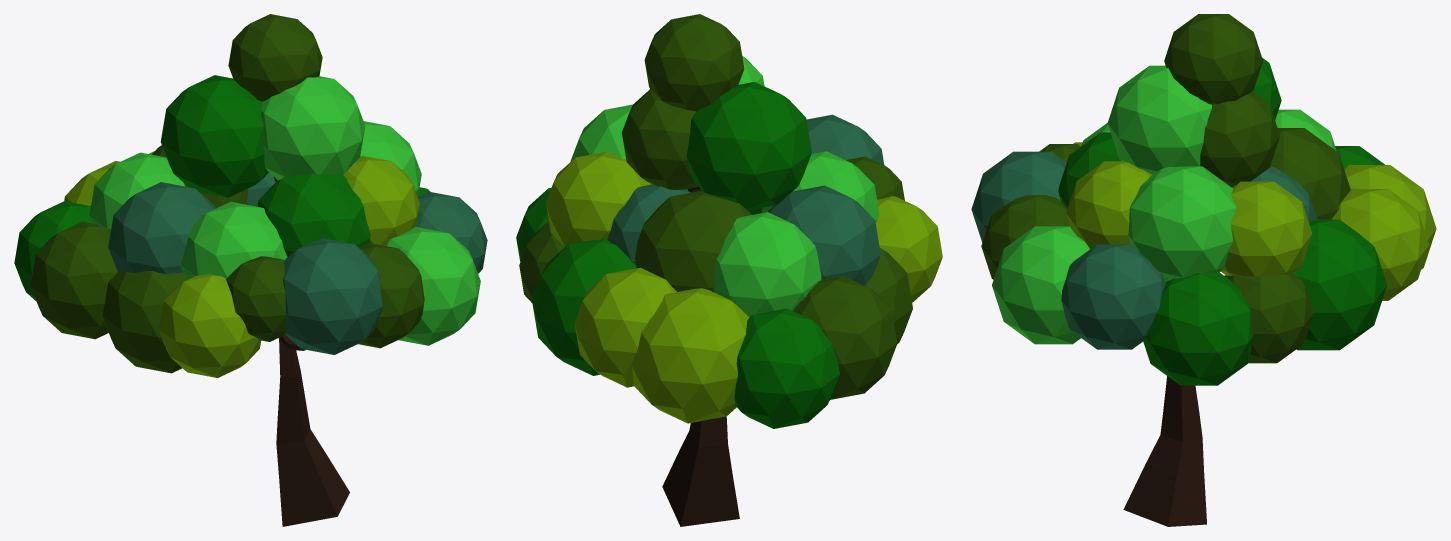
File: MapleTree.fbx
3 views of the same model, side by side, from view 1: azimuth 30°, elevation 25°; view 2: azimuth 150°, elevation 25°; view 3: azimuth 270°, elevation 25° (orthographic). The views are drawn at different scales.
Parts seen in each view (by area): view 1: Icosphere.025, Icosphere.013, Icosphere.026, Cube, Icosphere.005, Icosphere.009, Icosphere.017, Icosphere.003, Icosphere.019, Icosphere.023, Icosphere.008, Icosphere.018 (+8 smaller); view 2: Icosphere.025, Icosphere.010, Icosphere, Icosphere.016, Icosphere.015, Icosphere.005, Icosphere.023, Icosphere.011, Icosphere.017, Icosphere.001, Icosphere.022, Cube (+10 smaller); view 3: Icosphere.021, Icosphere.006, Icosphere.001, Icosphere.007, Icosphere.026, Icosphere.003, Cube, Icosphere.022, Icosphere.023, Icosphere.011, Icosphere.024, Icosphere.002 (+10 smaller).
Boxes of the visible parts, x1=… form: Icosphere.025: x1=160, y1=75, x2=268, y2=197; Icosphere.013: x1=283, y1=238, x2=382, y2=354; Icosphere.026: x1=261, y1=76, x2=365, y2=180; Cube: x1=274, y1=177, x2=349, y2=526; Icosphere.005: x1=30, y1=221, x2=117, y2=339; Icosphere.009: x1=159, y1=274, x2=260, y2=377; Icosphere.017: x1=108, y1=182, x2=215, y2=273; Icosphere.003: x1=385, y1=227, x2=480, y2=345; Icosphere.019: x1=257, y1=173, x2=370, y2=256; Icosphere.023: x1=228, y1=14, x2=322, y2=101; Icosphere.008: x1=102, y1=271, x2=186, y2=373; Icosphere.018: x1=181, y1=201, x2=287, y2=280; Icosphere.025: x1=686, y1=82, x2=811, y2=210; Icosphere.010: x1=631, y1=288, x2=749, y2=423; Icosphere: x1=734, y1=308, x2=839, y2=428; Icosphere.016: x1=713, y1=212, x2=821, y2=317; Icosphere.015: x1=635, y1=190, x2=752, y2=292; Icosphere.005: x1=793, y1=275, x2=897, y2=399; Icosphere.023: x1=644, y1=14, x2=744, y2=111; Icosphere.011: x1=574, y1=267, x2=676, y2=387; Icosphere.017: x1=767, y1=185, x2=880, y2=285; Icosphere.001: x1=532, y1=239, x2=636, y2=375; Icosphere.022: x1=546, y1=151, x2=651, y2=246; Cube: x1=662, y1=187, x2=739, y2=526; Icosphere.021: x1=1128, y1=166, x2=1236, y2=281; Icosphere.006: x1=1143, y1=271, x2=1253, y2=385; Icosphere.001: x1=1293, y1=219, x2=1387, y2=350; Icosphere.007: x1=1061, y1=244, x2=1165, y2=349; Icosphere.026: x1=1107, y1=65, x2=1211, y2=174; Icosphere.003: x1=992, y1=226, x2=1089, y2=344; Cube: x1=1123, y1=328, x2=1265, y2=526; Icosphere.022: x1=1221, y1=181, x2=1312, y2=276; Icosphere.023: x1=1164, y1=14, x2=1262, y2=104; Icosphere.011: x1=1332, y1=189, x2=1428, y2=300; Icosphere.024: x1=1200, y1=91, x2=1279, y2=186; Icosphere.002: x1=1224, y1=273, x2=1313, y2=363.
Size of the model in its own units: 1332 by 1649 by 1390.
